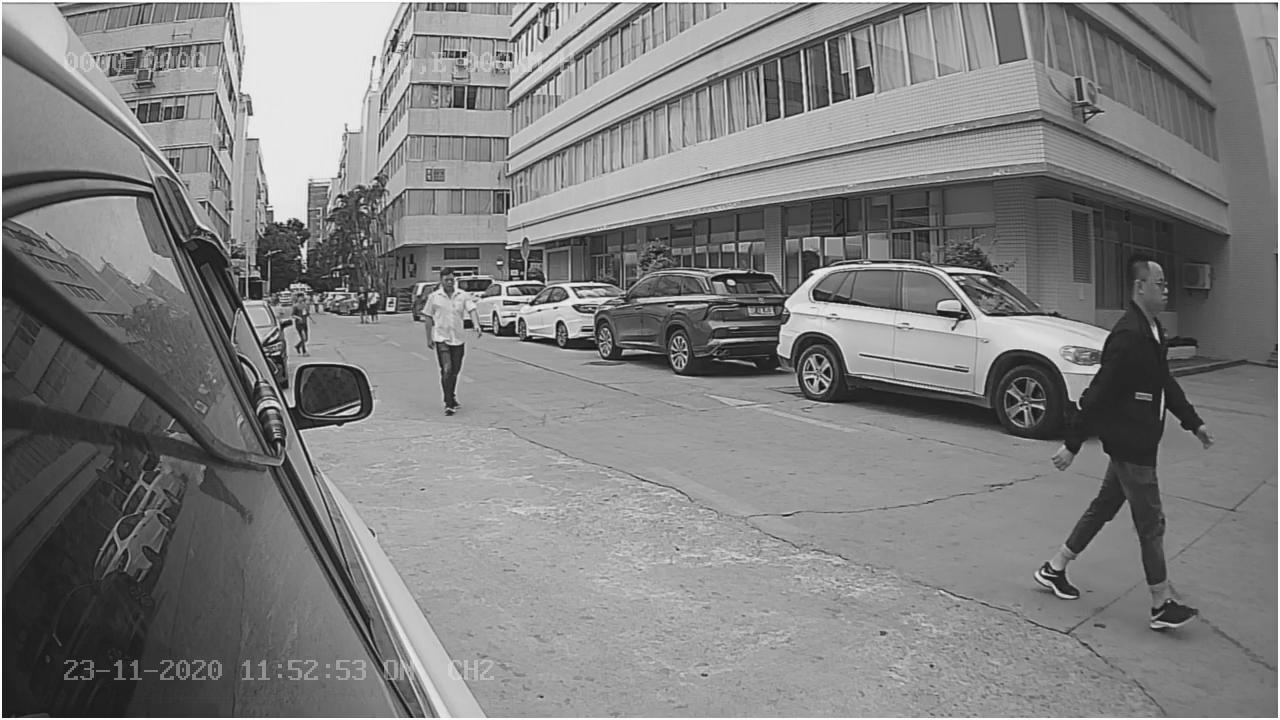person: (1052, 249, 1209, 625)
